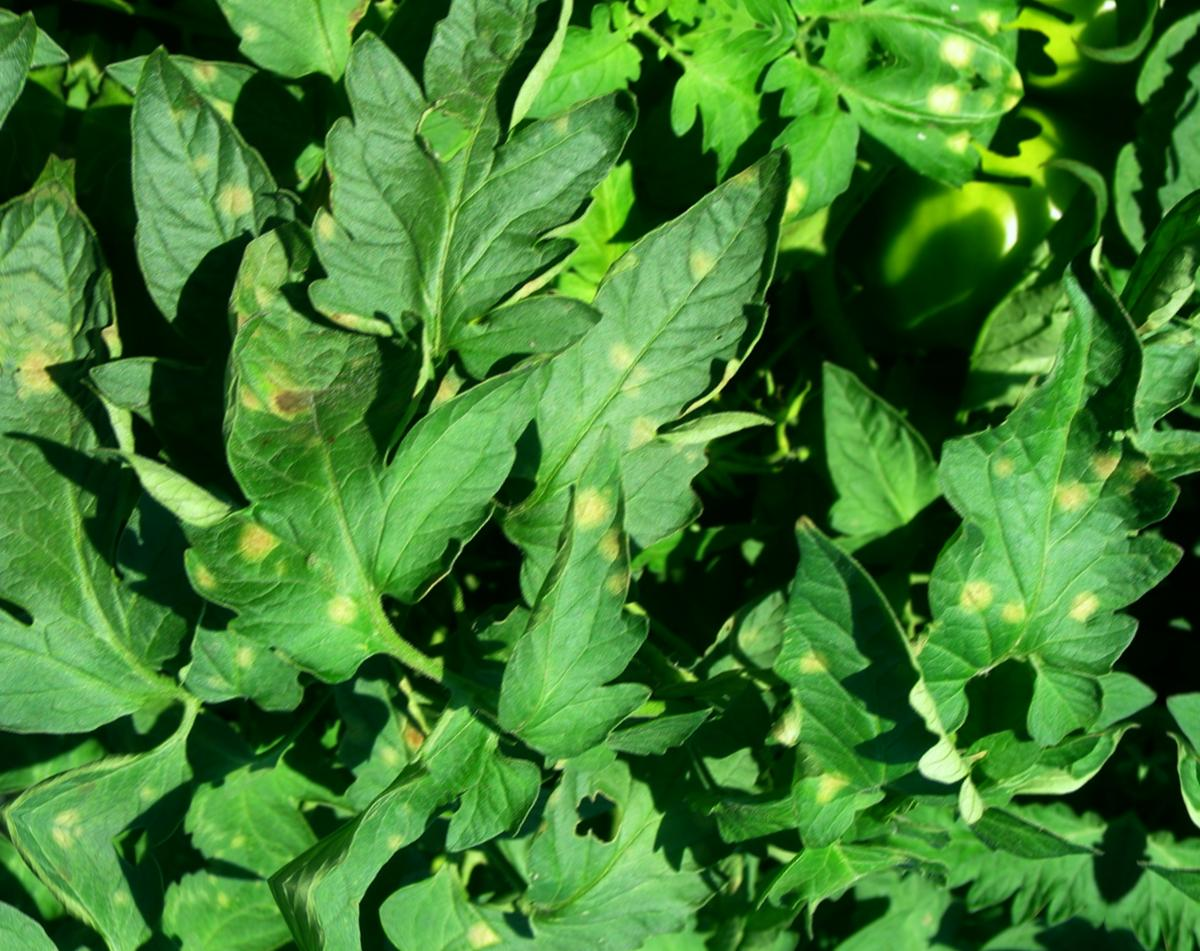Tomato mold leaf: (106, 231, 563, 731), (471, 100, 853, 611), (890, 246, 1200, 787), (256, 0, 664, 390), (714, 528, 1028, 874), (68, 31, 343, 363), (484, 412, 695, 775)
